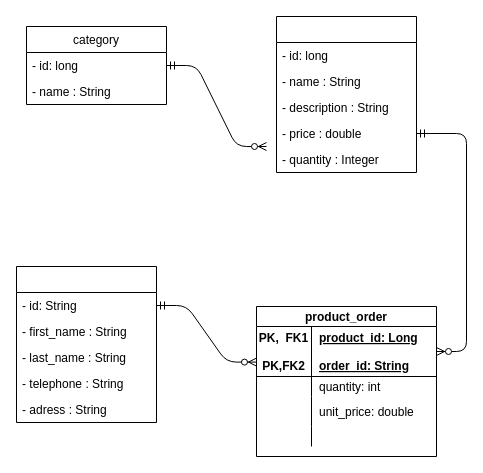
This 483x473 diagram has some shape labels left out. The shapes that lost their labels are listed below. From the top down, each one's box as (x1, y1, x2, y2) in pixels, then its label:
(276, 16, 416, 172): product
(16, 266, 156, 422): order
